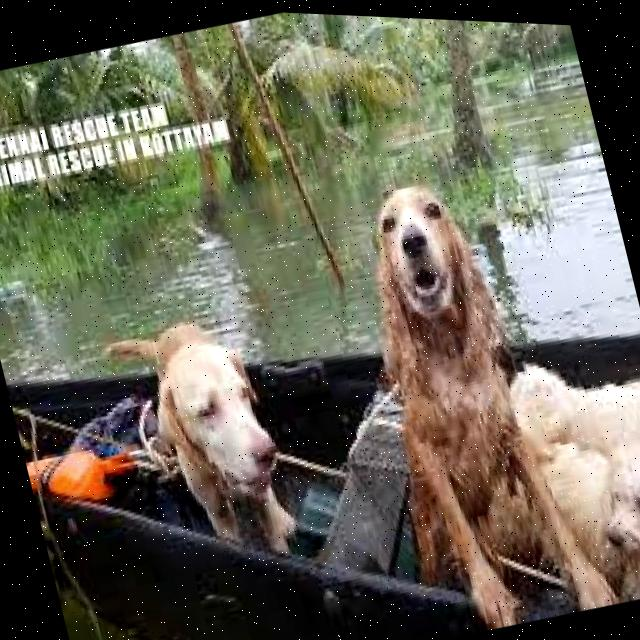dog: (328, 147, 610, 640), (83, 285, 324, 598), (525, 403, 640, 616), (499, 325, 640, 487)
